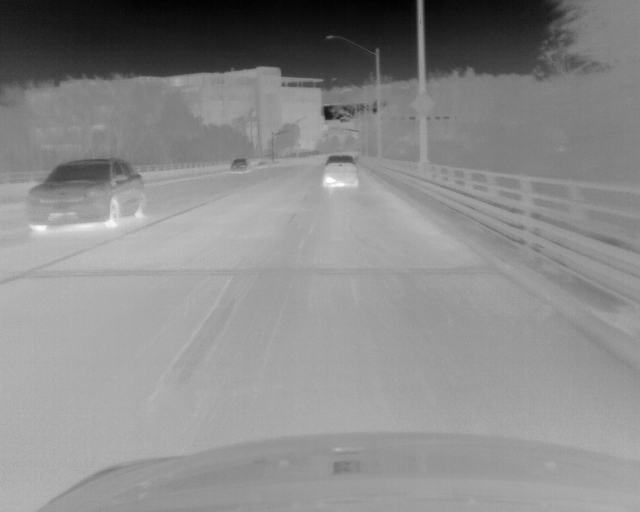car: (27, 156, 148, 230), (322, 153, 360, 189), (230, 156, 249, 174)
